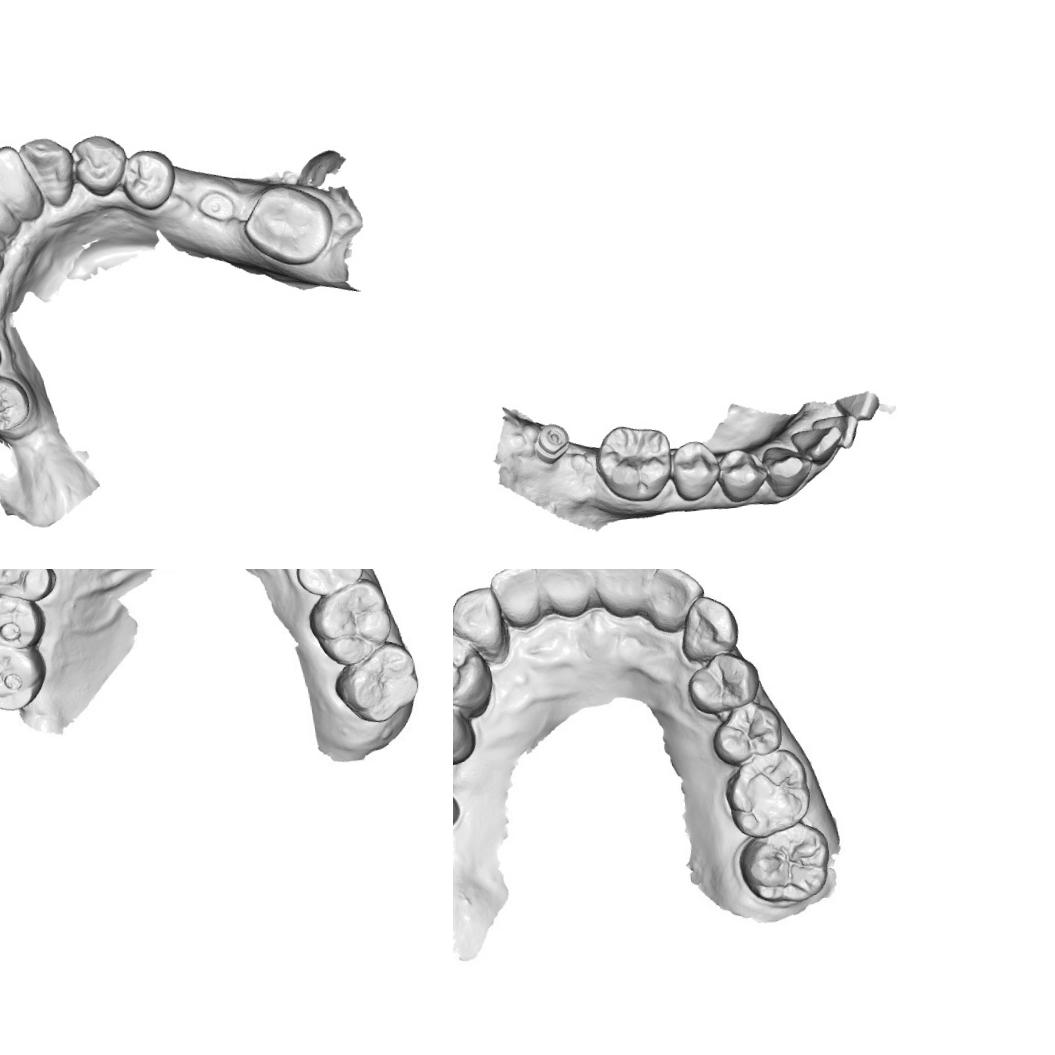canine: (15, 130, 80, 214), (453, 585, 511, 661), (758, 440, 816, 502), (683, 596, 740, 655)
implant: (193, 184, 239, 227)
implant_minus: (528, 419, 574, 466)
incisor: (0, 139, 44, 228), (488, 569, 548, 632), (595, 569, 662, 619), (530, 569, 597, 618), (787, 421, 846, 470), (649, 569, 700, 624), (808, 411, 863, 453), (0, 164, 22, 245)
molar: (238, 178, 342, 272), (305, 574, 398, 672), (329, 638, 425, 730), (741, 823, 834, 909), (589, 418, 678, 507), (730, 751, 809, 835), (0, 637, 50, 715)
premolar: (684, 650, 759, 718), (69, 128, 134, 200), (115, 144, 180, 214), (666, 436, 723, 506), (714, 701, 777, 762), (712, 443, 772, 505), (453, 632, 492, 706), (0, 588, 42, 651), (0, 373, 35, 442), (0, 569, 57, 607), (292, 569, 364, 599), (453, 688, 470, 764)
